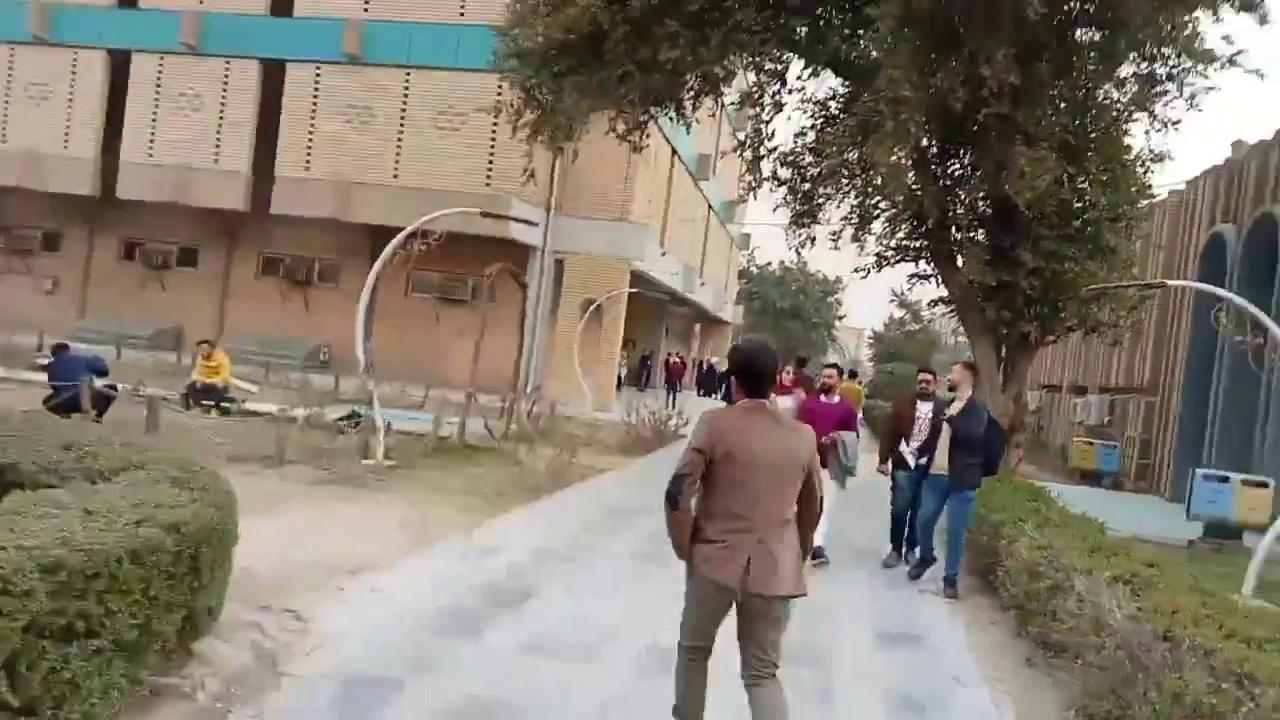car: (861, 360, 919, 437)
person: (663, 339, 824, 719), (907, 360, 1007, 601), (876, 365, 949, 568), (795, 362, 860, 565), (43, 341, 117, 423), (183, 339, 231, 411)
tree: (484, 0, 1274, 478), (0, 417, 240, 717), (732, 249, 847, 371), (861, 311, 940, 437)
